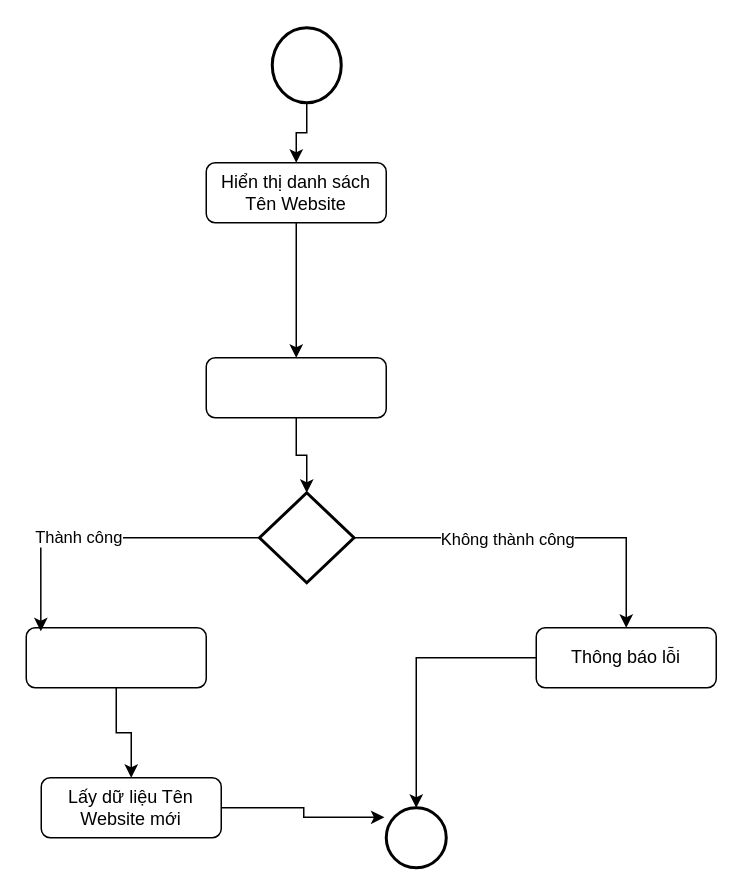
This 743x894 diagram has some shape labels left out. The shapes that lost their labels are listed below. From the top down, each one's centre as x and y in pixels, then its label:
At point (295, 387): "Sử dụng Tên Website".
At point (115, 657): "Thông báo thành công".
